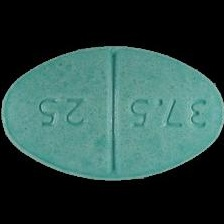51655-630: (0, 0, 224, 224)
